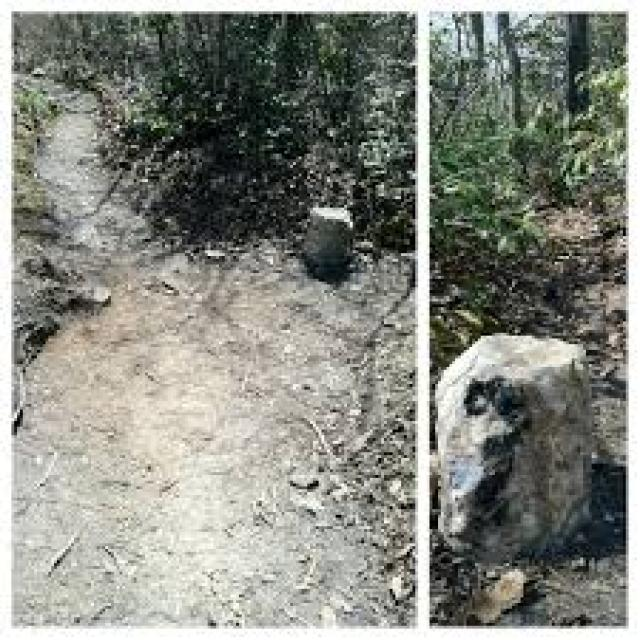Metamorphic: (432, 304, 598, 564), (293, 196, 358, 276)
